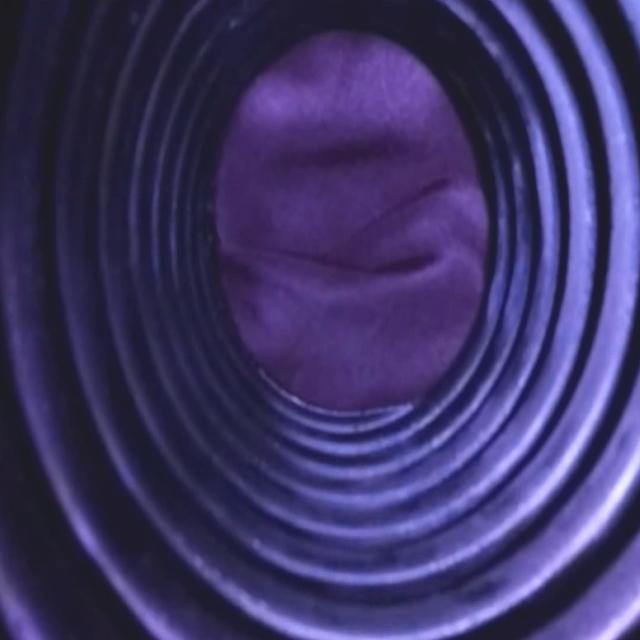block: (211, 49, 490, 409)
